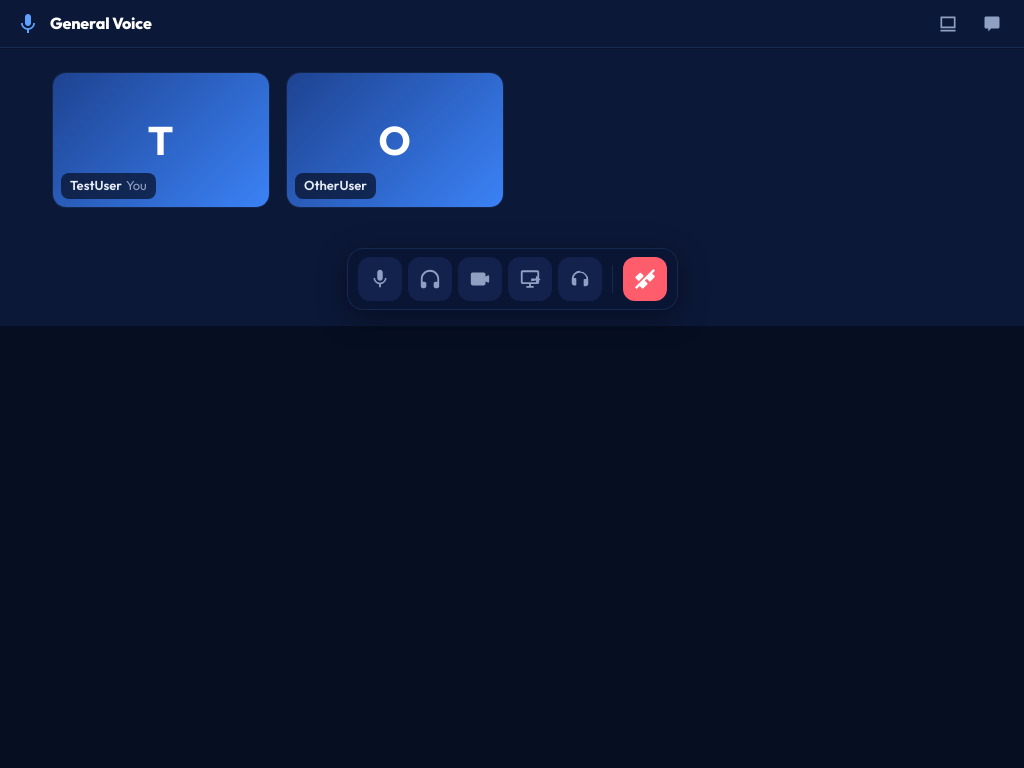
VoiceChannelView › toggles back to grid view from focus view
The image size is (1024, 768).
Click the button named "Switch to Focus View" at (948, 24), box left=932, top=8, right=964, bottom=40
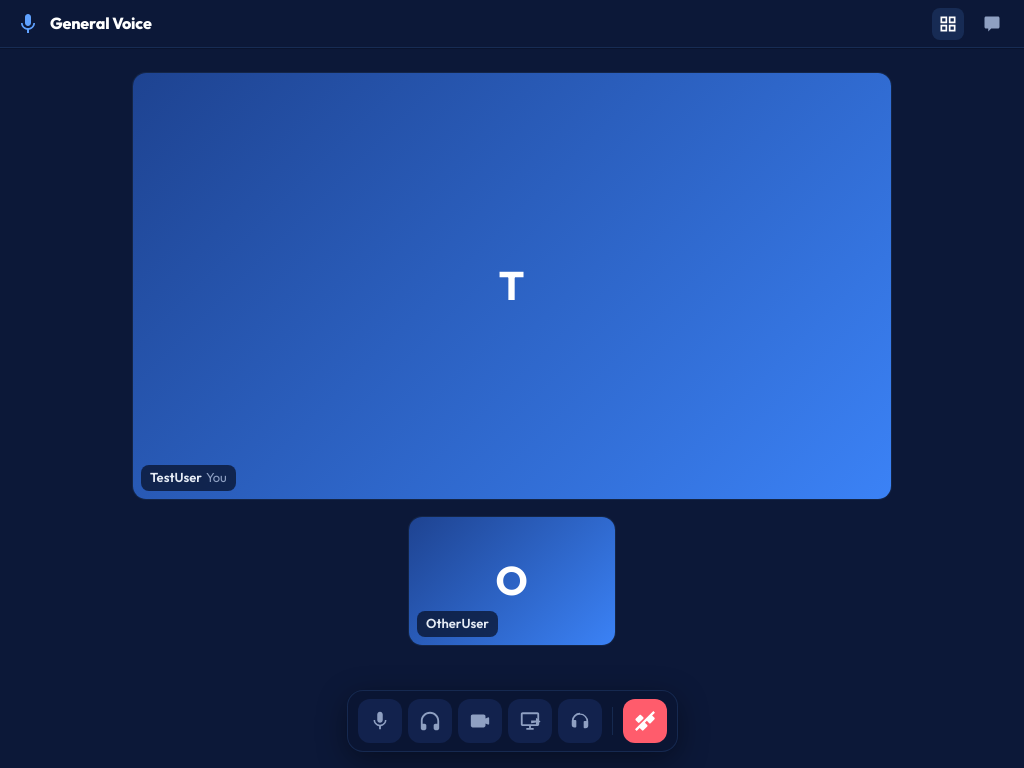
Click the button named "Switch to Grid View" at (948, 24), box left=932, top=8, right=964, bottom=40
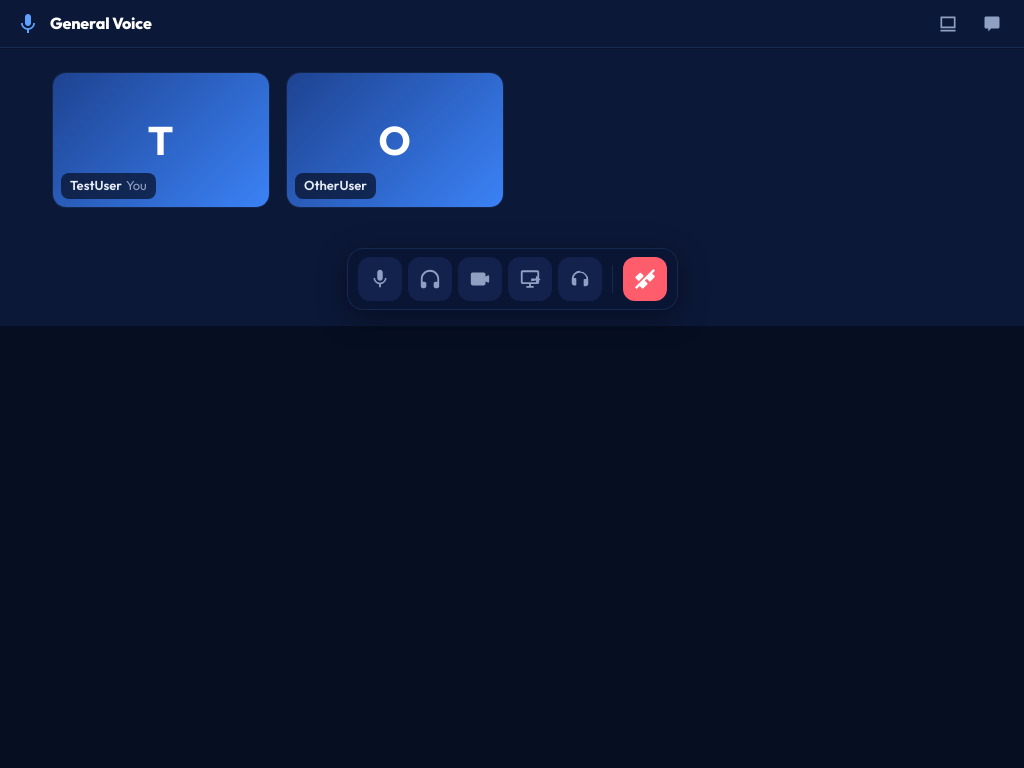
Expected: the button named "Switch to Focus View" is shown, left=932, top=8, right=964, bottom=40
